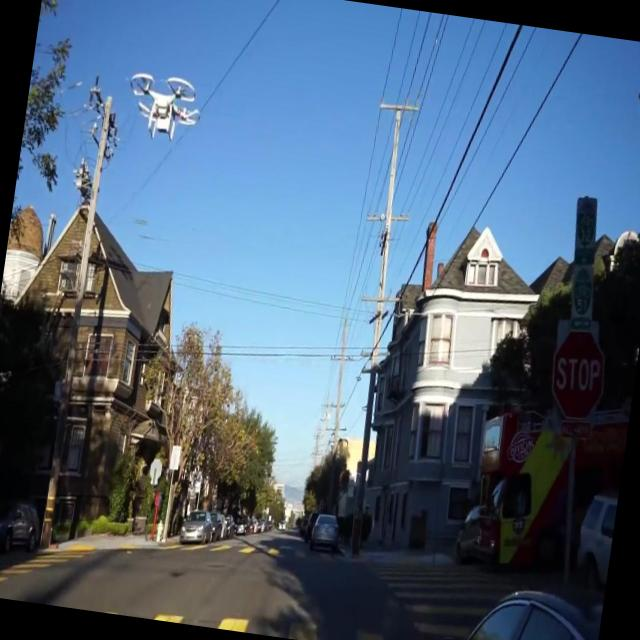drone: (116, 66, 210, 148)
